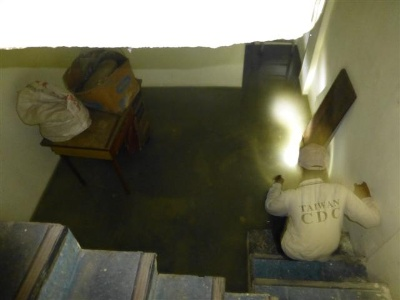box: (66, 52, 140, 114)
plastic_bag: (14, 80, 92, 142)
